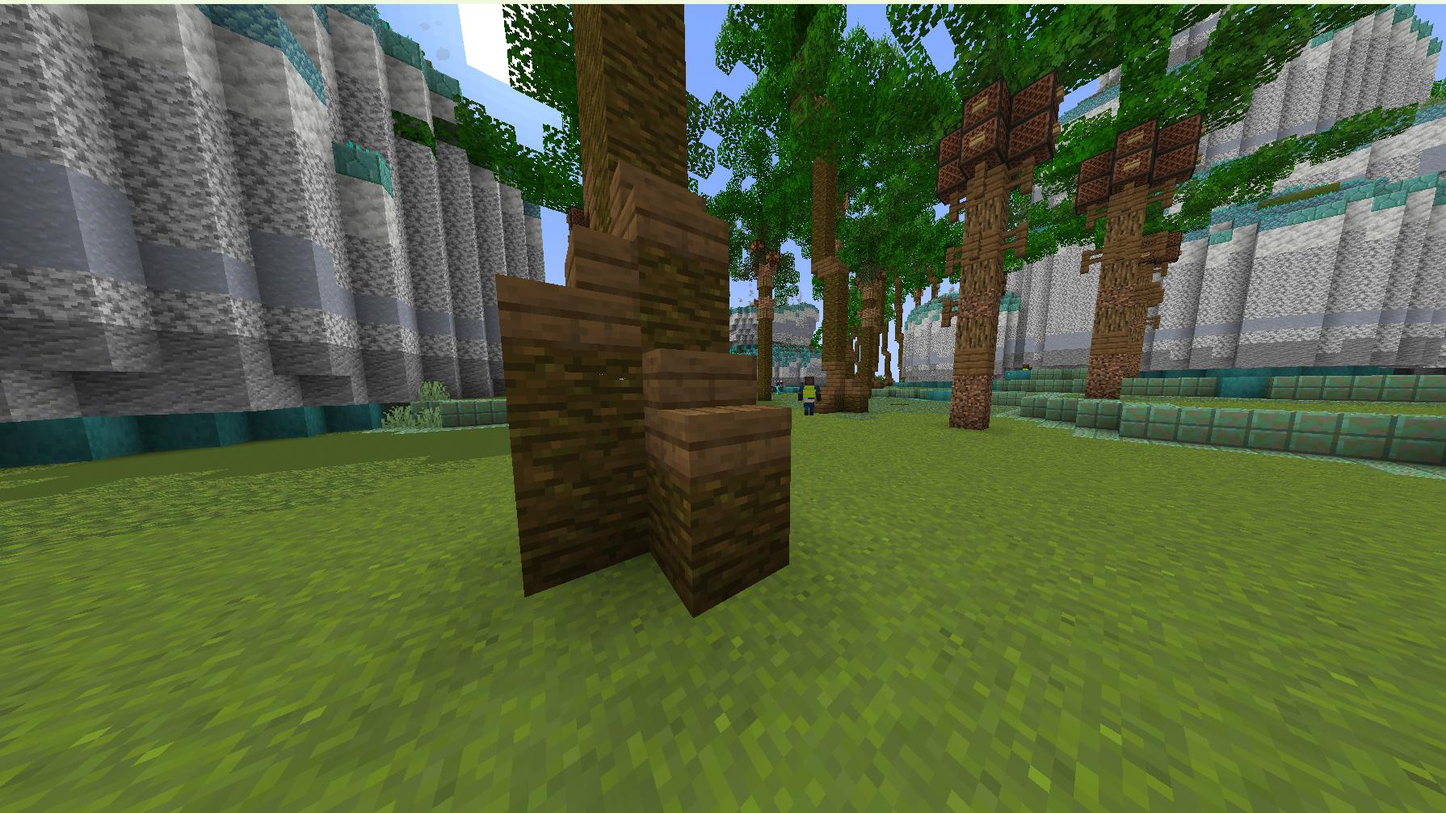Guardian: (801, 377, 821, 415)
